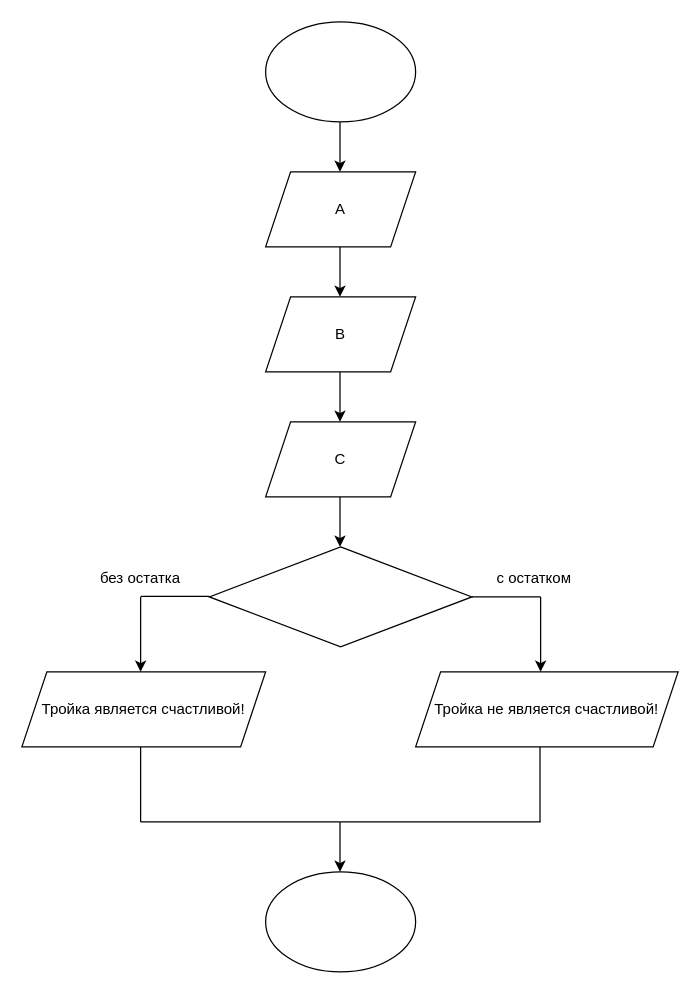
The diagram is 700 pixels wide and 994 high, and some of its shapes have lost their labels. Each missing label, with the centre of its shape:
"(A + B + C) % 3 == 0" belongs at point (340, 596).
"Конец" belongs at point (340, 921).
"Начало" belongs at point (340, 71).
